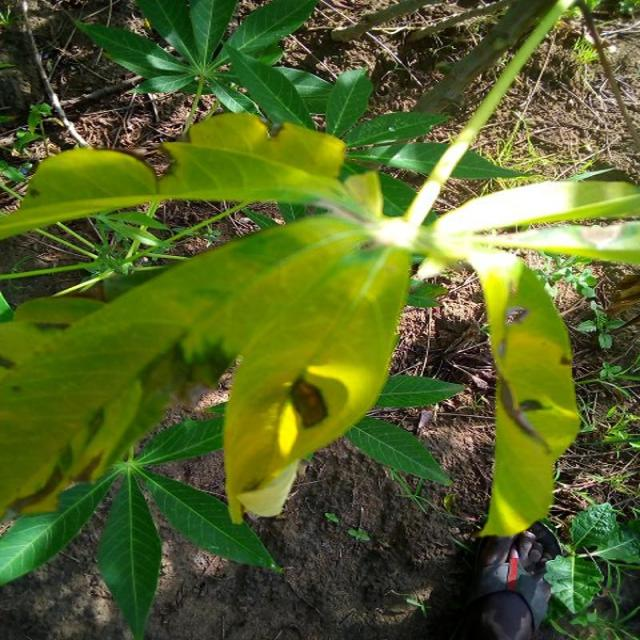cassava leaf: (473, 250, 581, 538)
